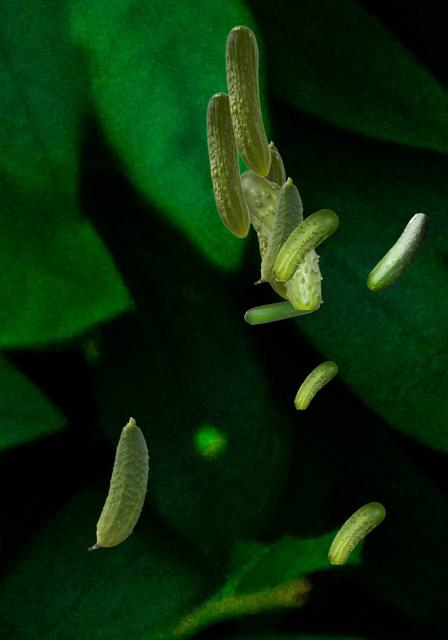cucumber: (241, 170, 322, 308), (88, 417, 148, 549), (225, 25, 270, 176), (206, 92, 249, 237), (254, 177, 302, 283), (256, 148, 287, 299), (367, 213, 427, 290), (272, 209, 337, 280), (328, 502, 384, 563), (294, 361, 336, 408), (244, 300, 317, 323), (270, 141, 278, 151)
